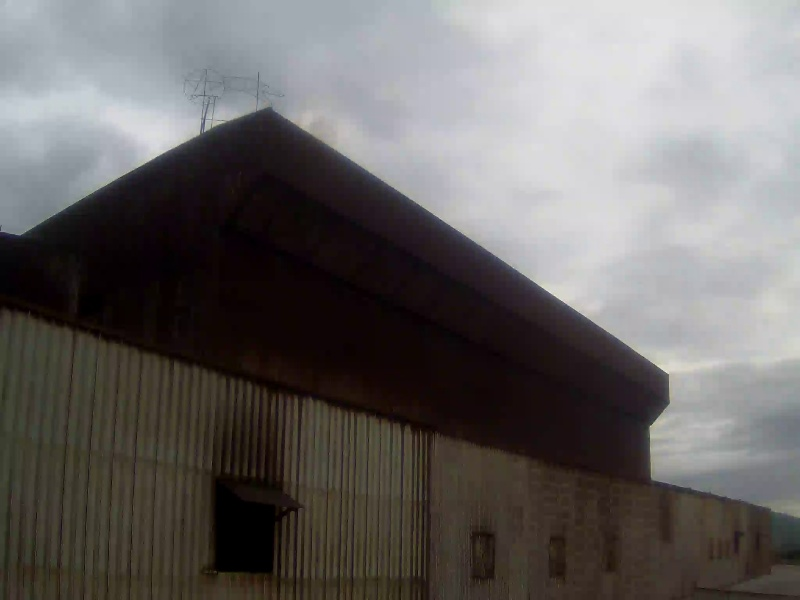bom: (265, 79, 673, 455), (14, 43, 269, 164), (642, 298, 783, 465)
